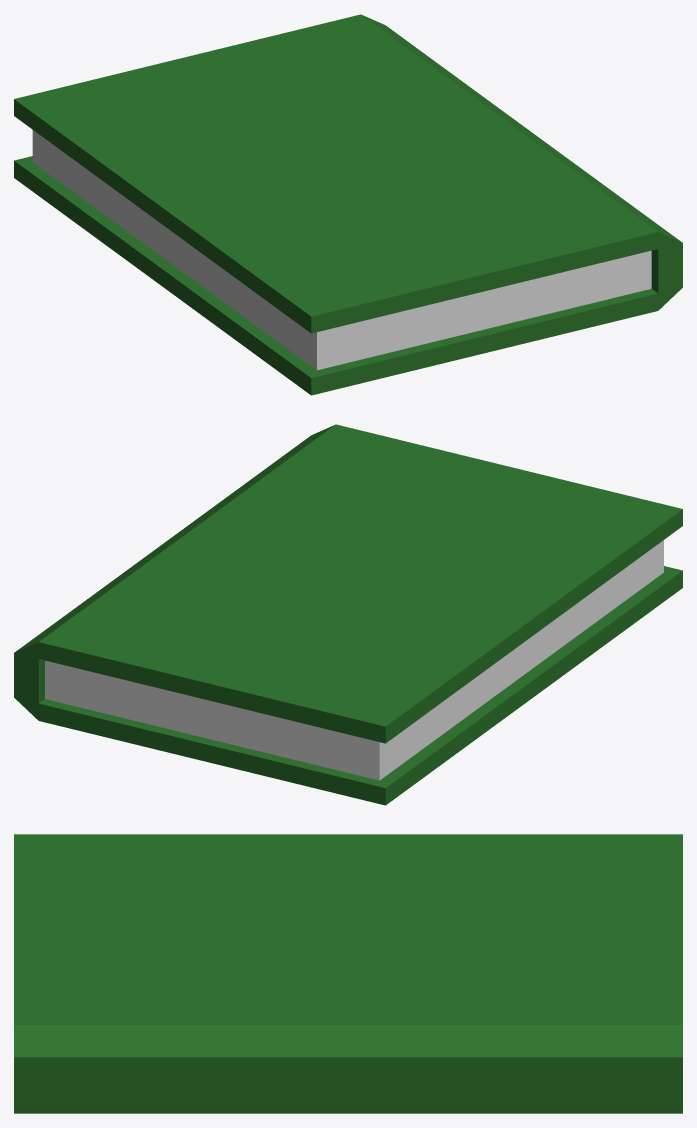
Rendered from tome_1.glb.
3 views of the same model, one above another, from view 1: azimuth 30°, elevation 25°; view 2: azimuth 150°, elevation 25°; view 3: azimuth 270°, elevation 25° (orthographic). The views are drawn at different scales.
Visible parts, largest first — view 1: tome_1; view 2: tome_1; view 3: tome_1.
Boxes of the visible parts, left/top/right/bottom form: tome_1: left=14, top=14, right=682, bottom=395; tome_1: left=14, top=424, right=682, bottom=805; tome_1: left=14, top=834, right=682, bottom=1113.
Bounding box in the file's own units: 0.2405 × 0.0488 × 0.3333.
